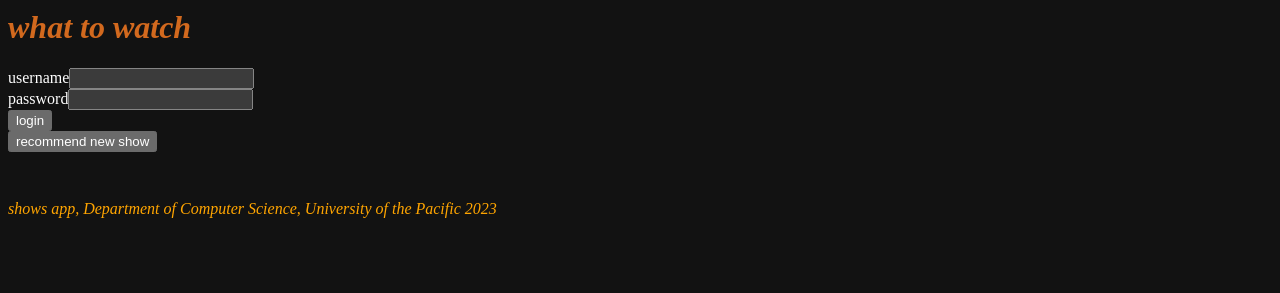
it: Shows app tests › login › fails with wrong credentials
Type "benson" into the field named "username" at (162, 79), box left=69, top=68, right=254, bottom=89
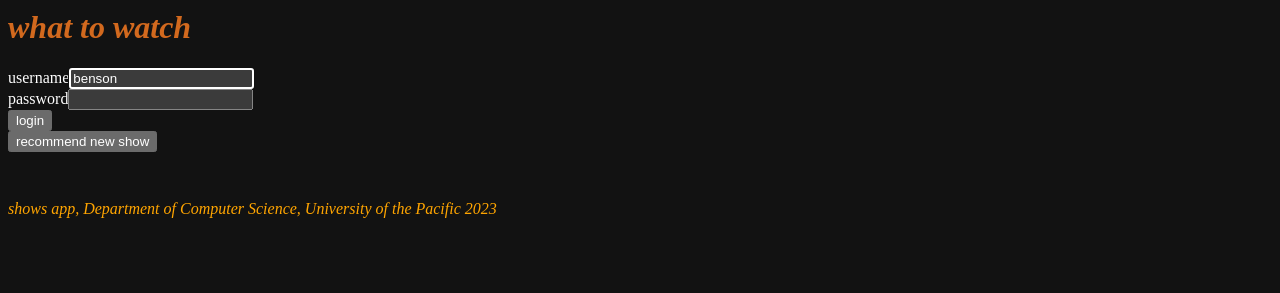
Type "3742" into the password field named "password" at (161, 100), box left=68, top=89, right=253, bottom=110
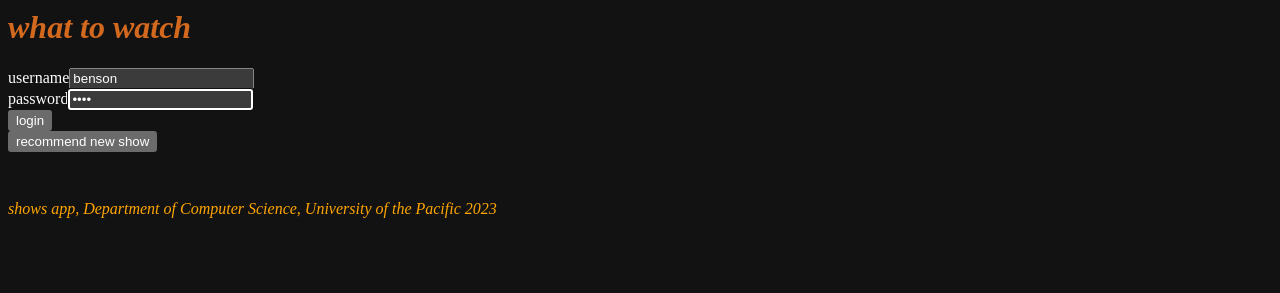
Click the button "login" at (30, 121), box left=8, top=110, right=52, bottom=131
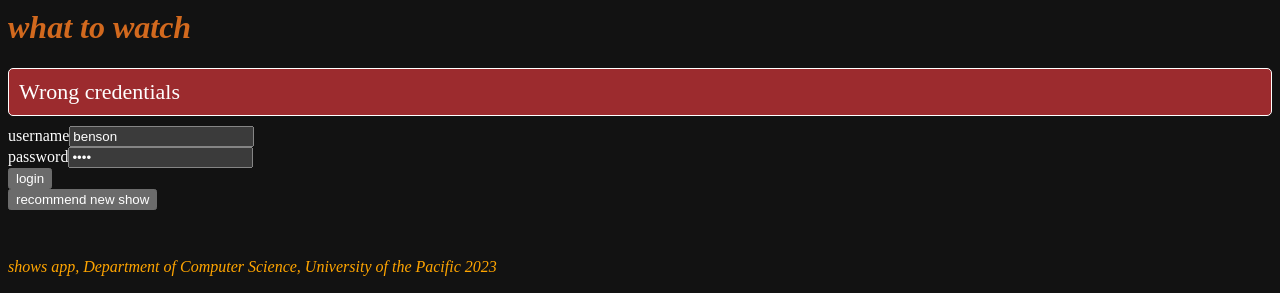
Now the text "Wrong credentials" is shown, box left=8, top=68, right=1272, bottom=116
